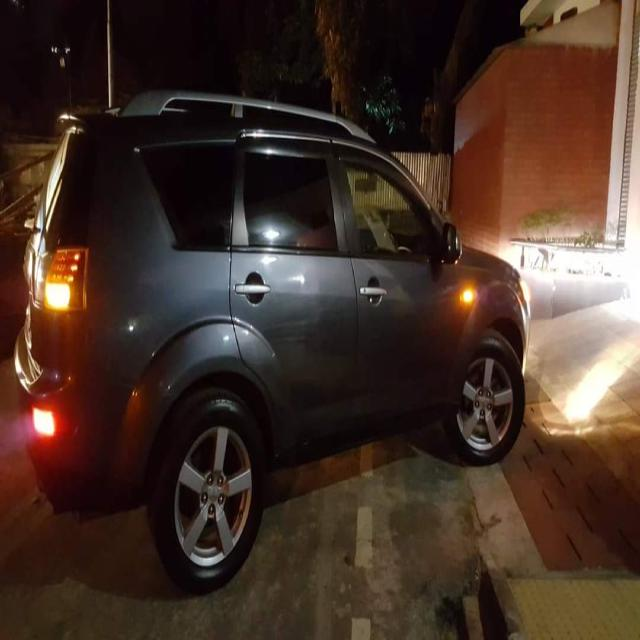silver: (16, 93, 532, 507)
